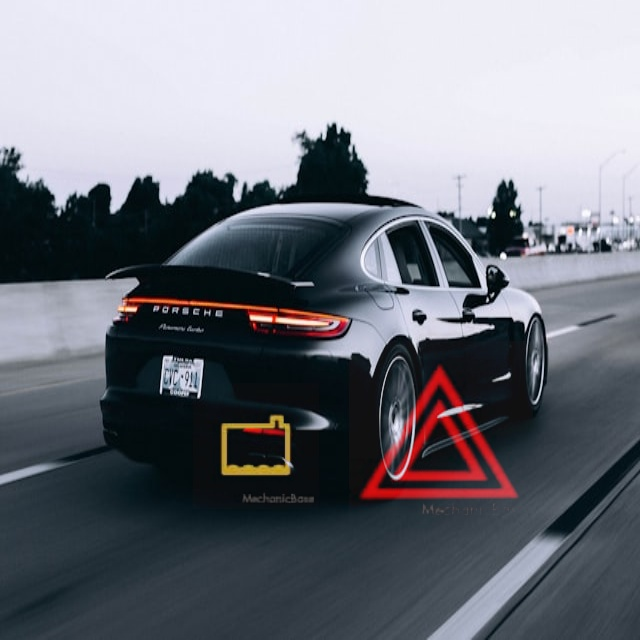symbol: (349, 341, 533, 525), (193, 383, 319, 509)
